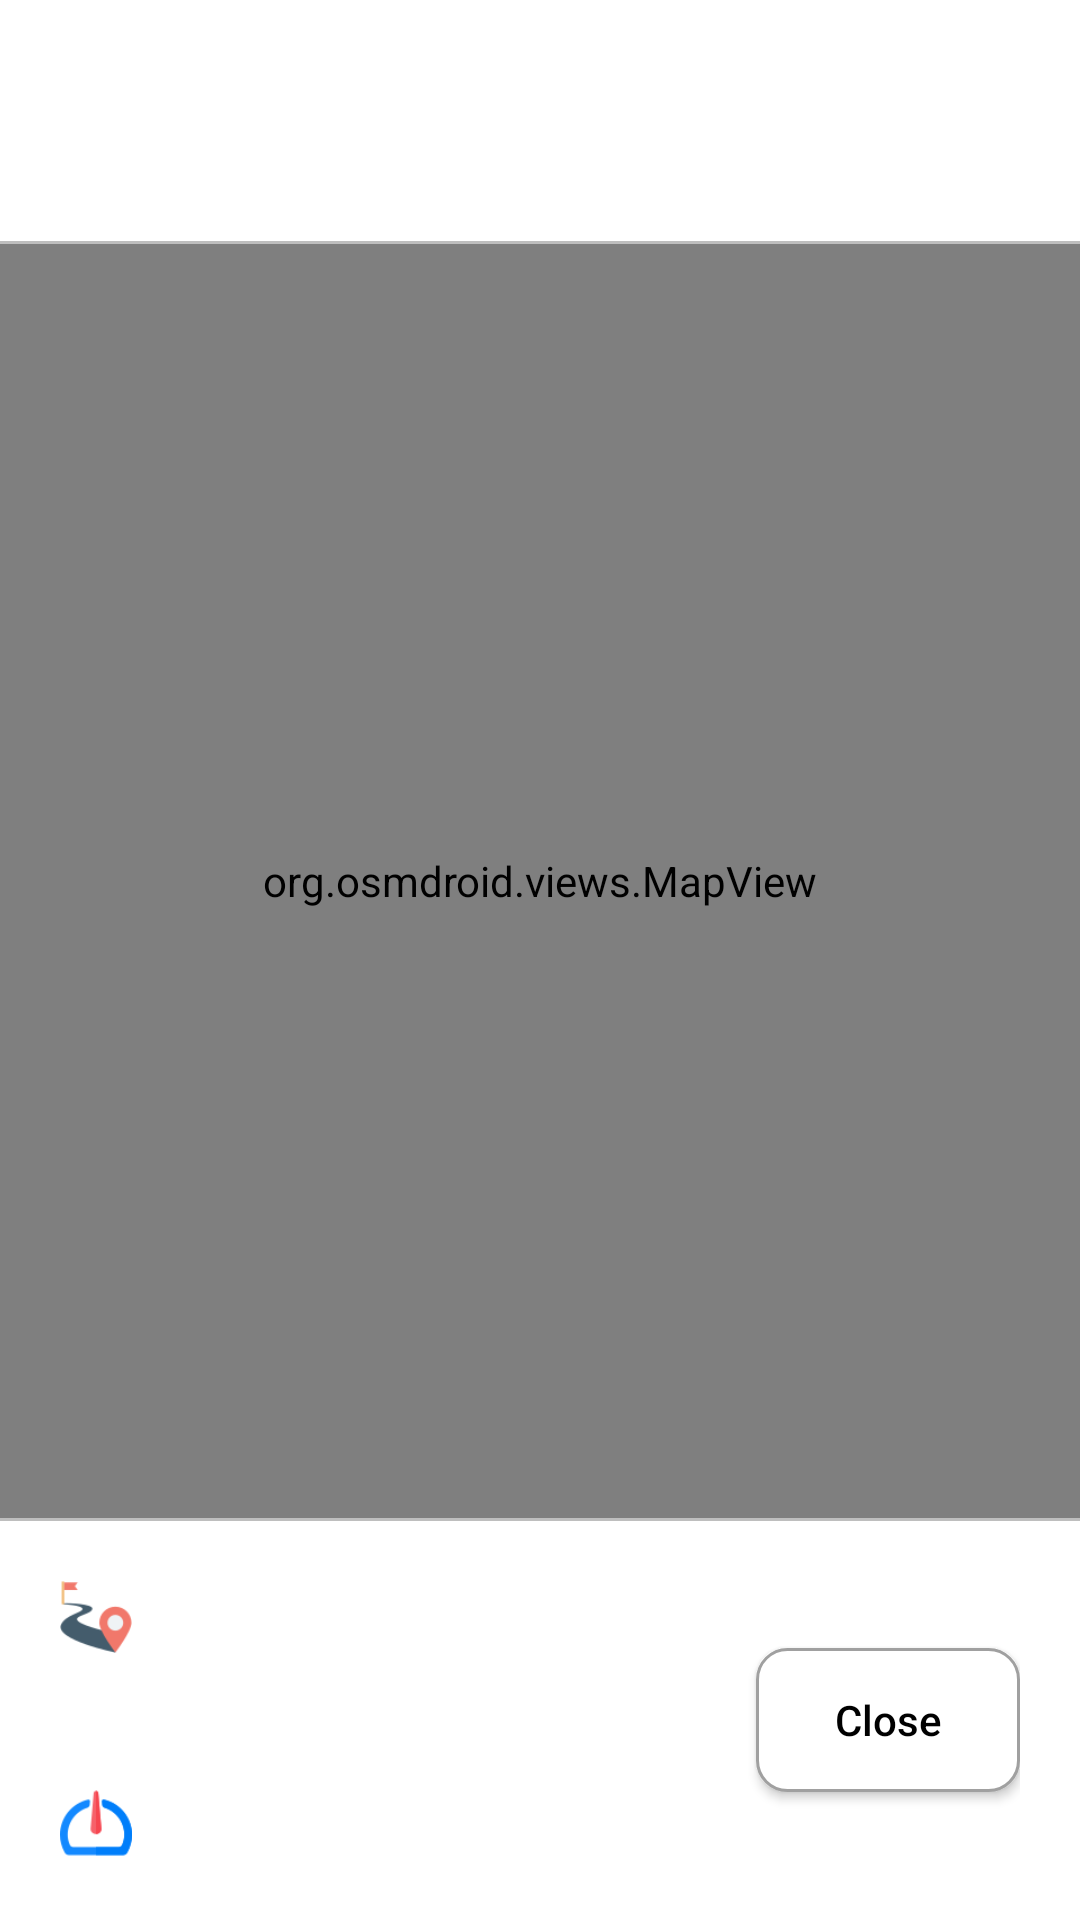

Icons on this 1080 × 1920 Android screen, each with the point to tap as [x,y]:
average speed icon: [96,1823]
distance icon: [96,1617]
